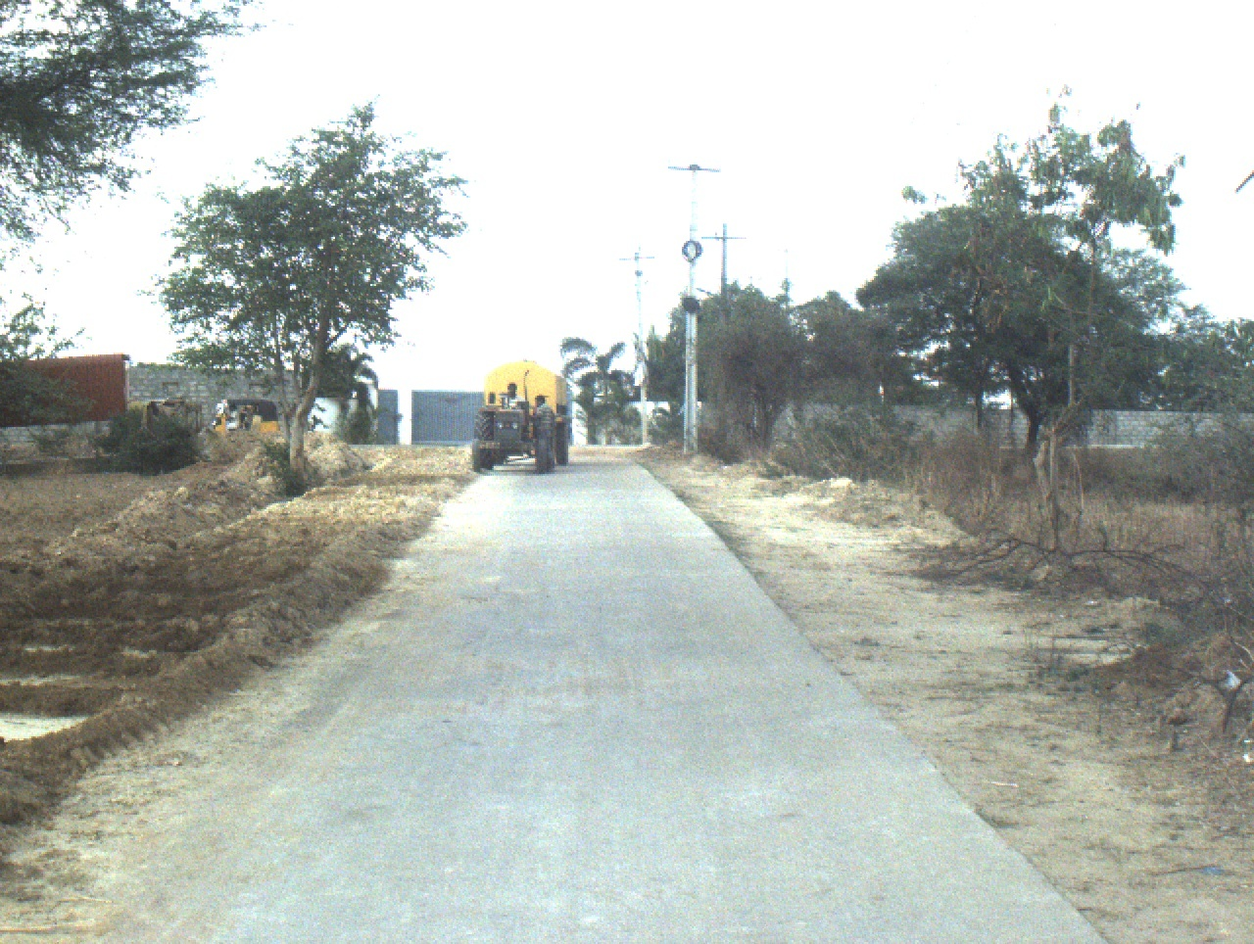autorickshaw: (131, 393, 203, 448), (212, 395, 279, 444)
rider: (503, 381, 522, 407), (536, 391, 550, 417)
truck: (1, 354, 128, 426)
vehicle fallback: (470, 361, 581, 474)
